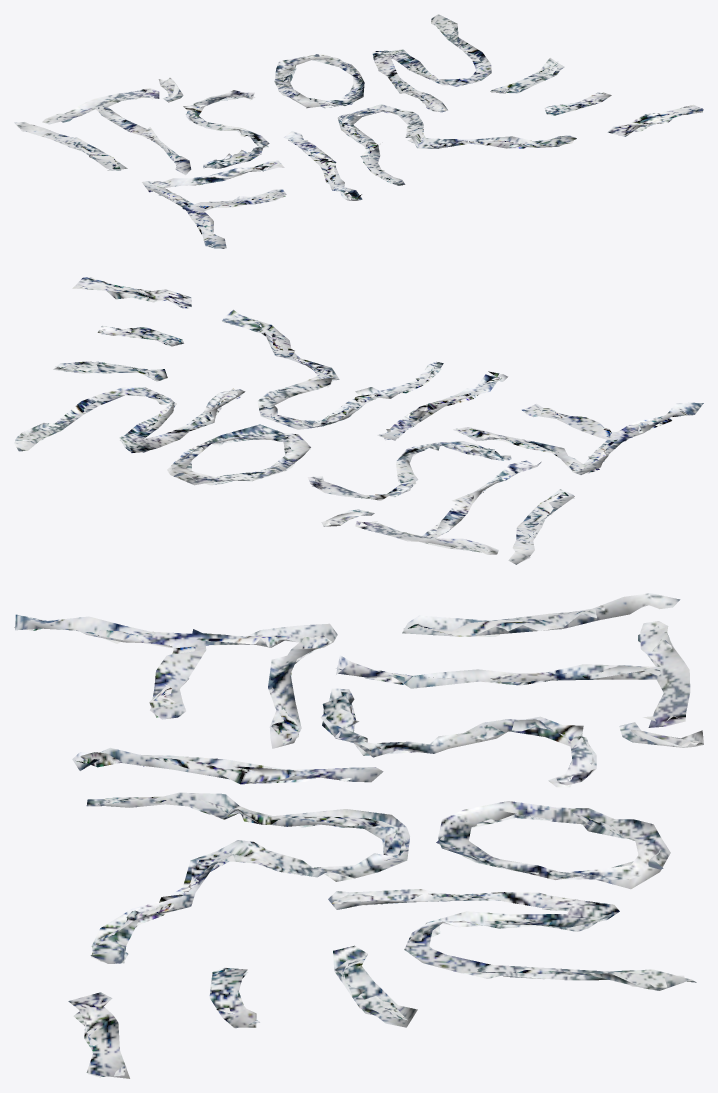
The model's file is 10_ITS_ON_FIRE.glb.
The picture shows the model from 3 angles, top to bottom: view 1: azimuth 30°, elevation 25°; view 2: azimuth 150°, elevation 25°; view 3: azimuth 270°, elevation 25°; orthographic projection. The views are drawn at different scales.
Visible parts, largest first — view 1: 10_ITS_ON_FIRE; view 2: 10_ITS_ON_FIRE; view 3: 10_ITS_ON_FIRE.
Boxes of the visible parts, x1,y1,x2,y2 form: 10_ITS_ON_FIRE: (14,14,703,248); 10_ITS_ON_FIRE: (14,277,703,564); 10_ITS_ON_FIRE: (14,593,703,1078).
Size of the model in its own units: 4.35 by 0.1021 by 2.65.
Materials: 1 (1 with a texture image).
